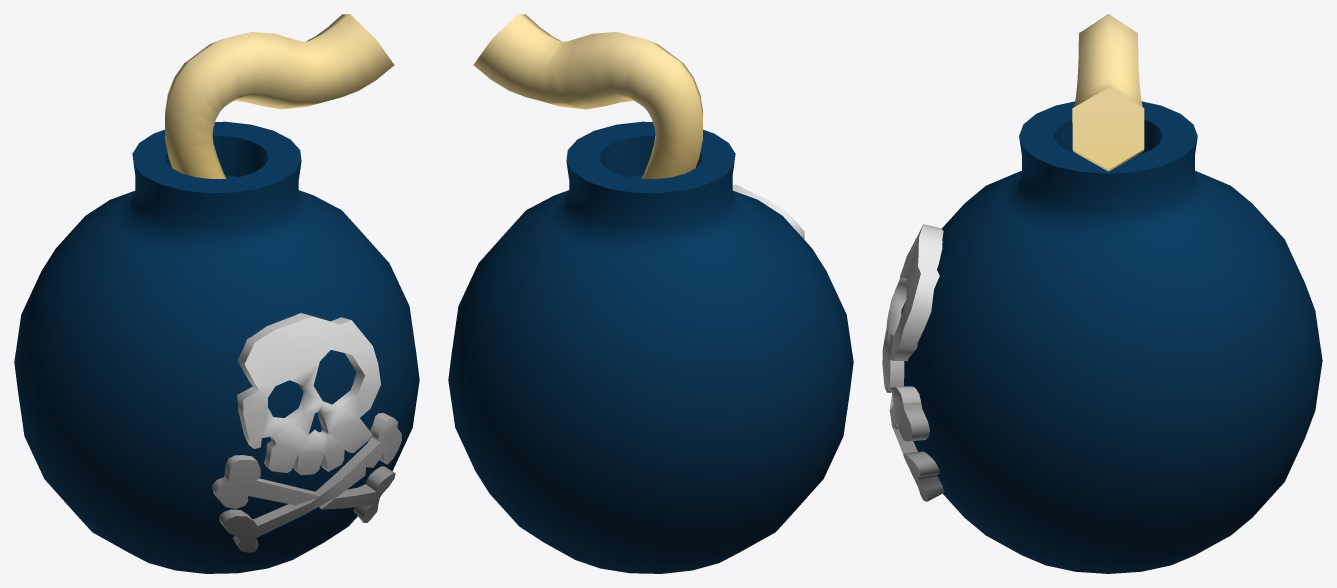
3 renders of one model, left to right at view 1: azimuth 30°, elevation 25°; view 2: azimuth 150°, elevation 25°; view 3: azimuth 270°, elevation 25°, orthographic. The views are drawn at different scales.
Visible parts, largest first — view 1: Collectable_Bomb_02; view 2: Collectable_Bomb_02; view 3: Collectable_Bomb_02.
Part boxes in pixels (left/top/right/bottom): Collectable_Bomb_02: left=14, top=14, right=419, bottom=573; Collectable_Bomb_02: left=448, top=14, right=853, bottom=573; Collectable_Bomb_02: left=882, top=14, right=1322, bottom=573.
Size of the model in its own units: 67.37 by 94.03 by 69.23.
1 material, 1 textured.
